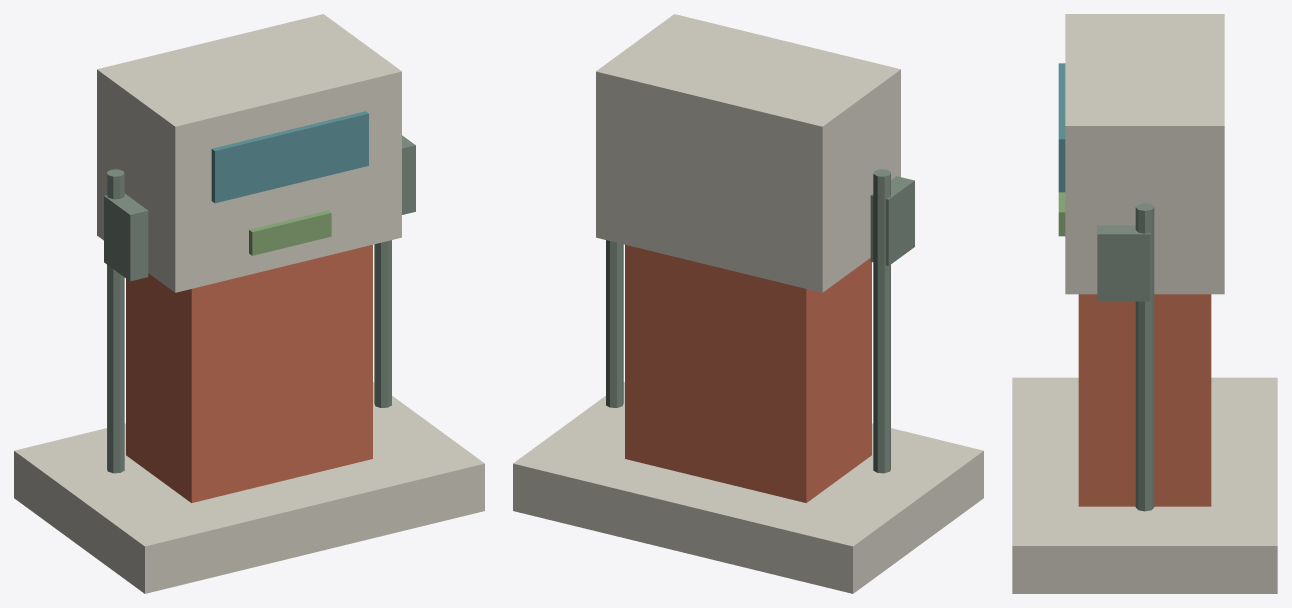
Rendered from fuel_pump.glb.
3 views of the same model, side by side, from view 1: azimuth 30°, elevation 25°; view 2: azimuth 150°, elevation 25°; view 3: azimuth 270°, elevation 25° (orthographic).
Parts seen in each view (by area): view 1: Fuel head, Fuel pedestal, Fuel island, Digital display, Hose, Nozzle, Hose.001, Pump badge, Nozzle.001; view 2: Fuel head, Fuel pedestal, Fuel island, Hose, Hose.001, Nozzle; view 3: Fuel head, Fuel island, Fuel pedestal, Hose.001, Nozzle.001, Digital display, Pump badge.
Boxes of the visible parts, x1,y1,x2,y2 form: Fuel head: [97, 14, 401, 292]; Fuel pedestal: [126, 244, 372, 502]; Fuel island: [14, 382, 484, 593]; Digital display: [211, 111, 368, 203]; Hose: [107, 169, 124, 473]; Nozzle: [104, 193, 148, 281]; Hose.001: [374, 240, 391, 407]; Pump badge: [249, 210, 331, 255]; Nozzle.001: [402, 135, 415, 214]; Fuel head: [596, 14, 900, 292]; Fuel pedestal: [625, 244, 871, 502]; Fuel island: [513, 382, 983, 593]; Hose: [873, 169, 890, 473]; Hose.001: [606, 240, 623, 407]; Nozzle: [870, 176, 914, 265]; Fuel head: [1065, 14, 1224, 294]; Fuel island: [1012, 377, 1277, 593]; Fuel pedestal: [1078, 294, 1211, 506]; Hose.001: [1135, 203, 1154, 511]; Nozzle.001: [1097, 225, 1150, 301]; Digital display: [1058, 63, 1065, 192]; Pump badge: [1058, 192, 1065, 236].
Bounding box in the file's own units: 1.5 × 1.83 × 1.
